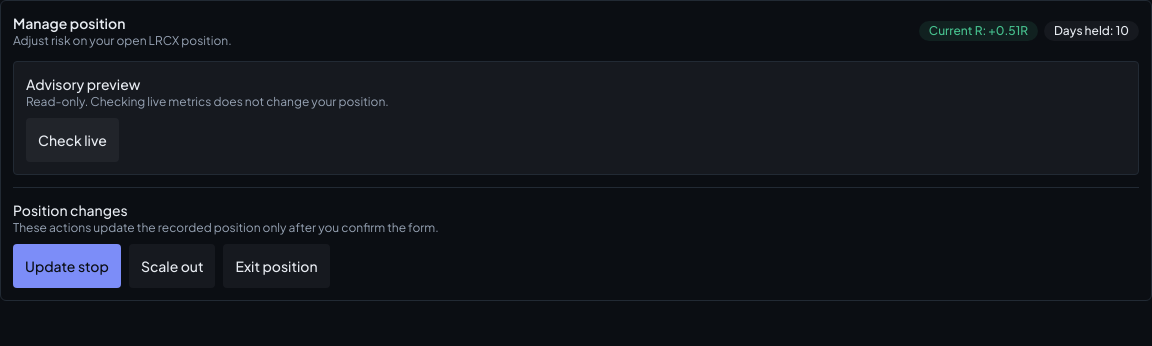
Test: ManagePositionPanel › shows local feedback when a live preview request fails
Click the button "Check live": (72, 140) [26, 118, 119, 162]
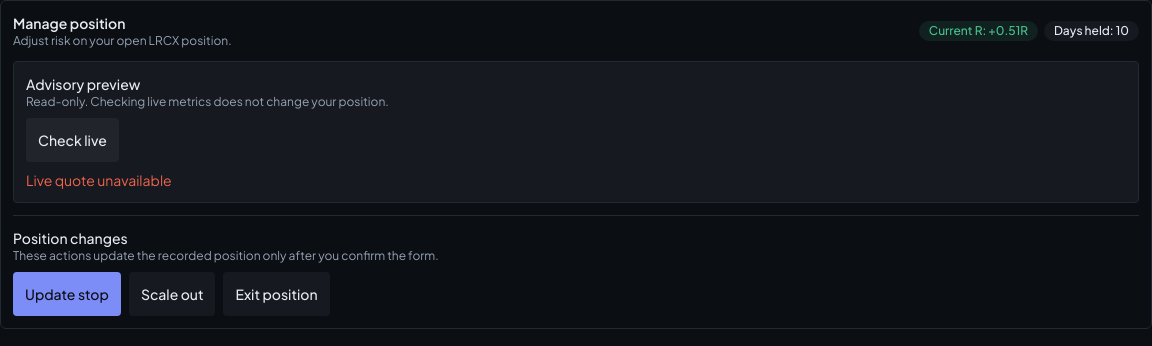
Result: the message reads "Live quote unavailable" at [26, 171, 172, 189]
